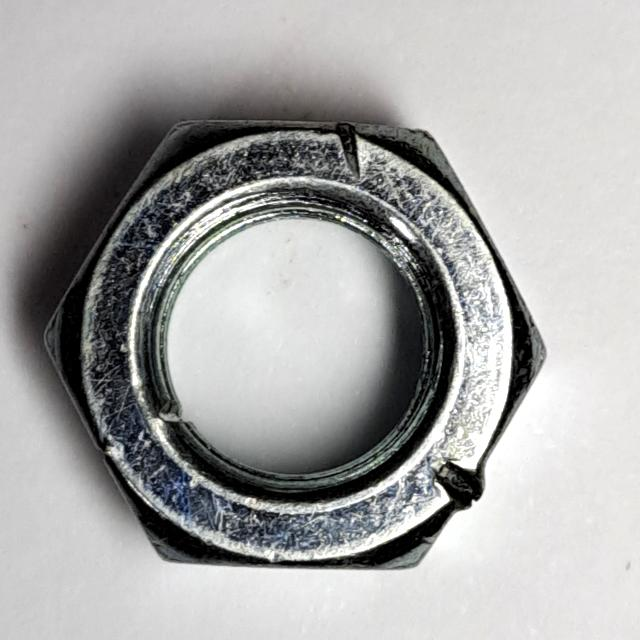Scratches: (27, 100, 564, 590)
